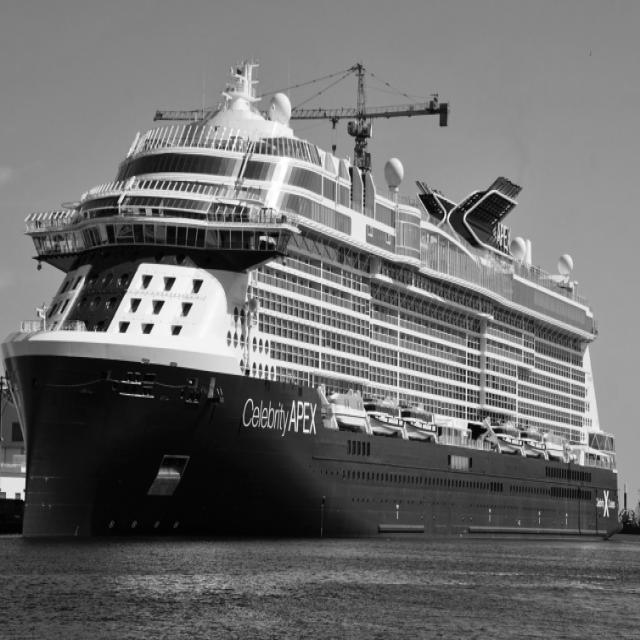cruises: (1, 61, 628, 548)
